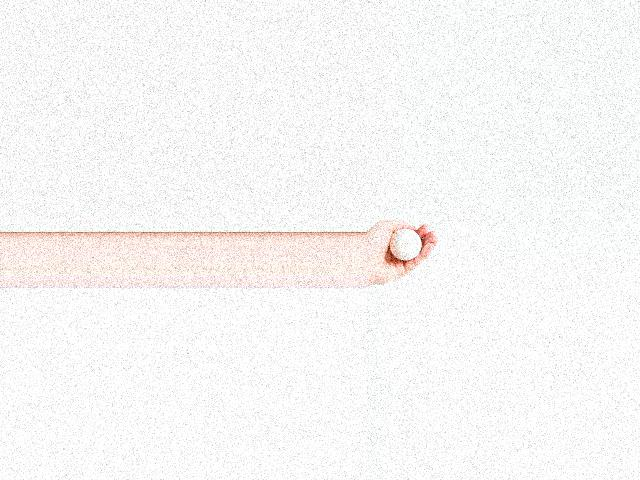egg: (390, 229, 422, 260)
